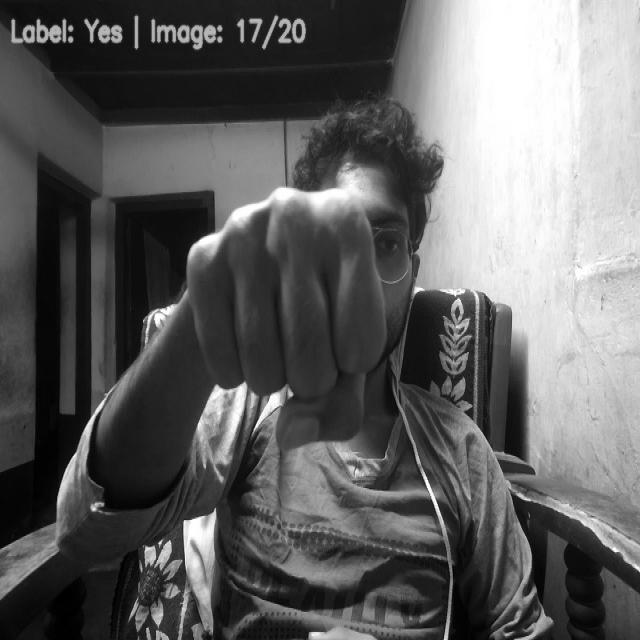Yes: (187, 185, 389, 451)
